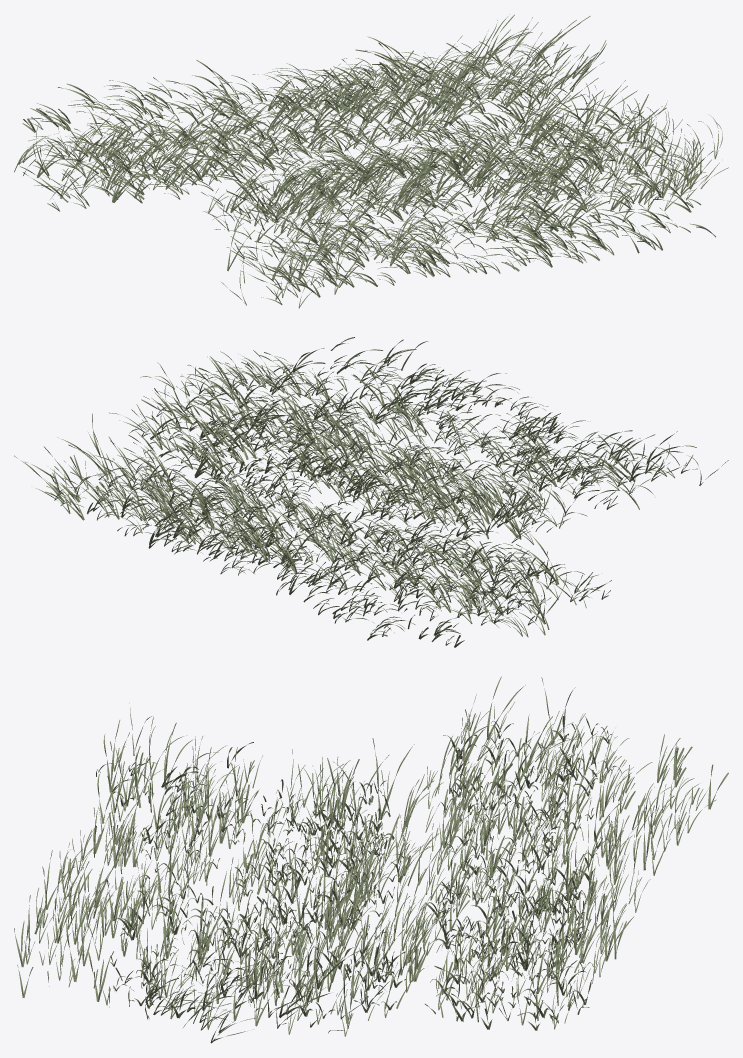
Rendered from largeGrassPatch1.fbx.
3 views of the same model, one above another, from view 1: azimuth 30°, elevation 25°; view 2: azimuth 150°, elevation 25°; view 3: azimuth 270°, elevation 25° (orthographic). The views are drawn at different scales.
Visible parts, largest first — view 1: grassCarpet3Main; view 2: grassCarpet3Main; view 3: grassCarpet3Main.
Boxes of the visible parts, left/top/right/bottom form: grassCarpet3Main: left=14, top=14, right=728, bottom=308; grassCarpet3Main: left=14, top=337, right=728, bottom=647; grassCarpet3Main: left=14, top=676, right=728, bottom=1043.
Bounding box in the file's own units: 10.34 × 0.9413 × 9.28.
